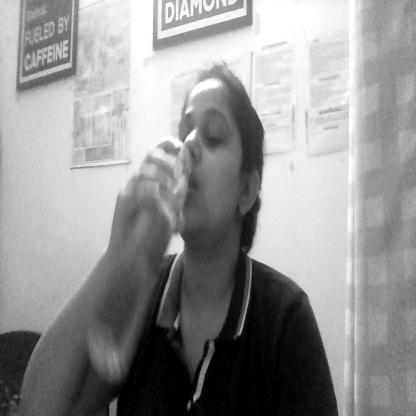Distracted: (176, 61, 251, 244)
